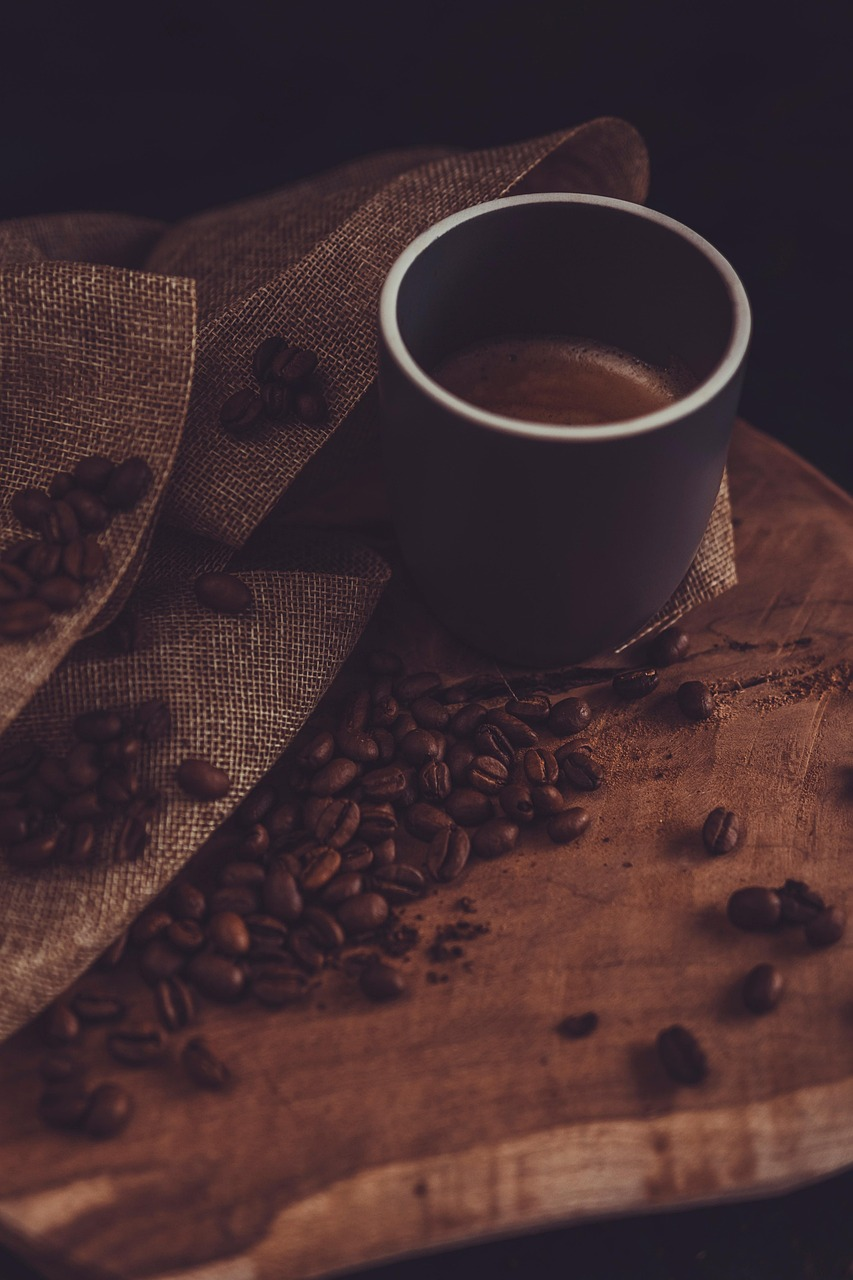mug: (350, 180, 770, 728)
